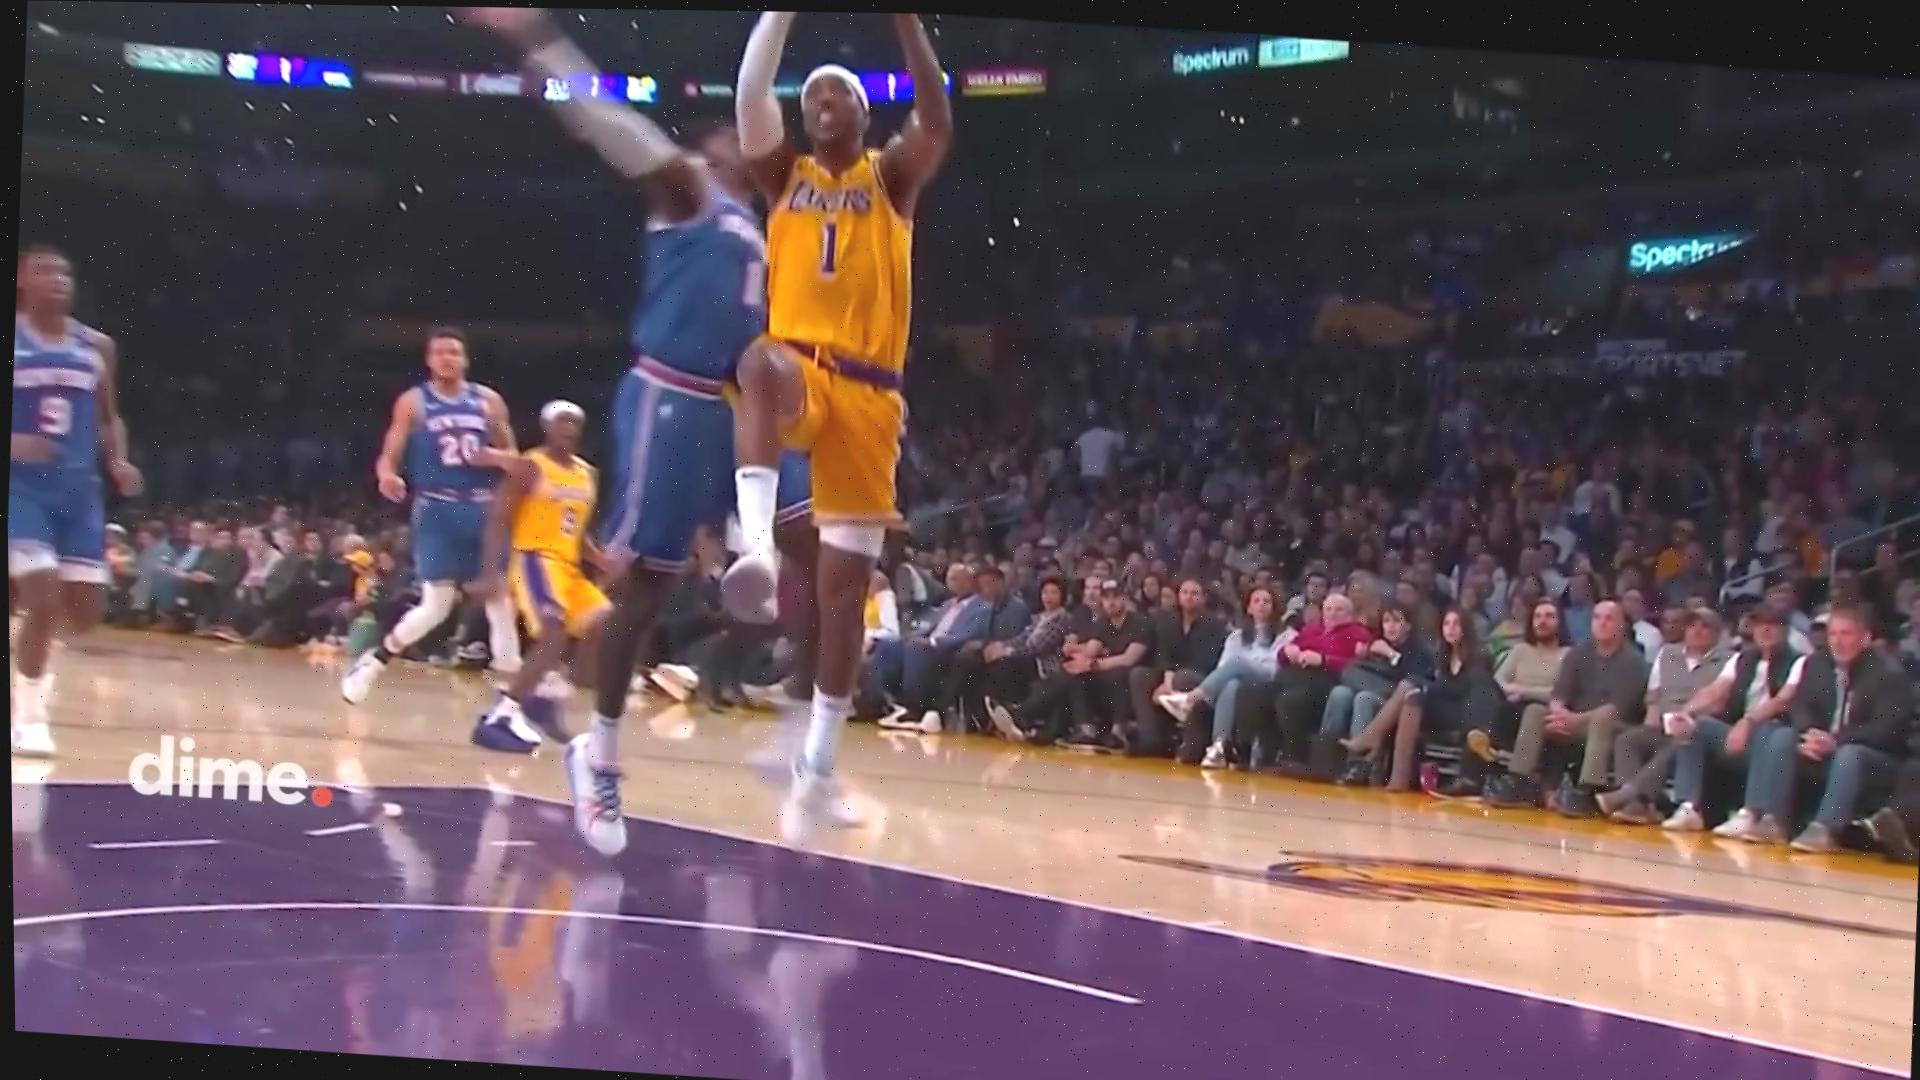no_foul: (402, 7, 948, 895)
